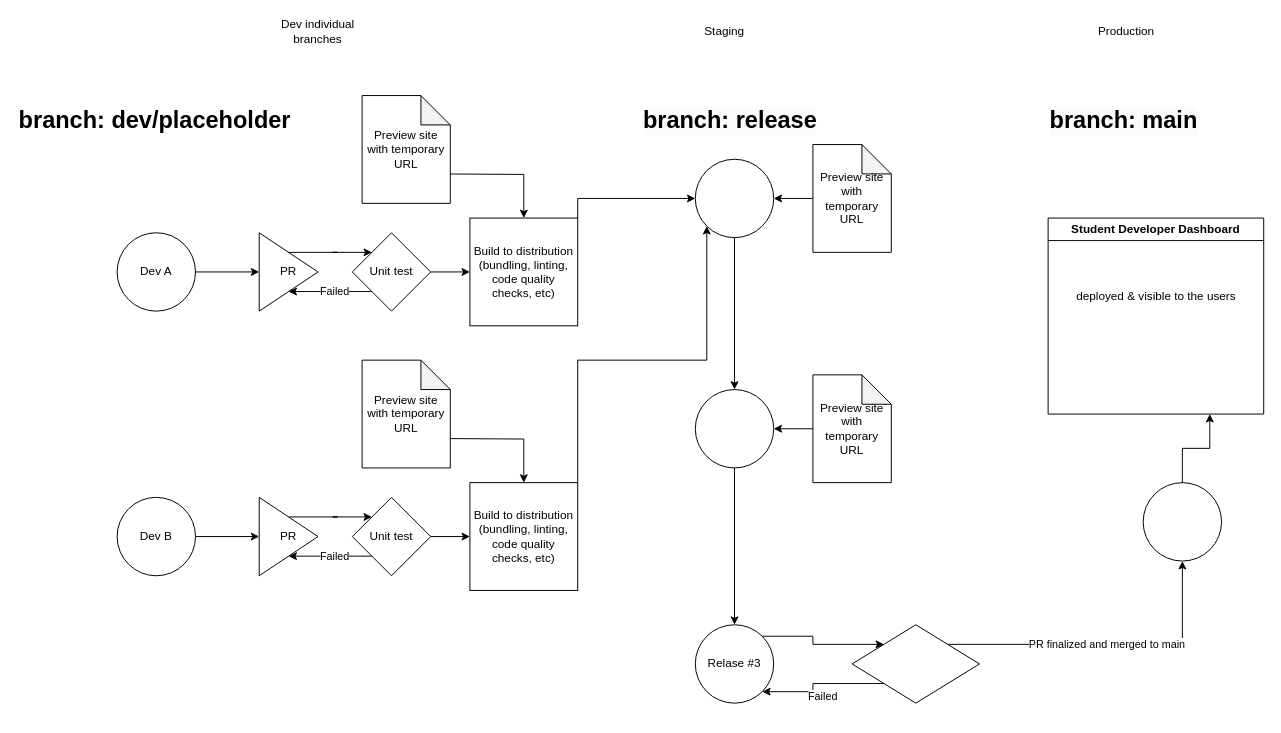
This 1281x733 diagram has some shape labels left out. Each missing label, with the centre of its shape:
"integration test" belongs at pixel 915 663.
"Relase #1" belongs at pixel 734 198.
"Relase #2" belongs at pixel 734 428.
"Version 1.0" belongs at pixel 1182 521.
